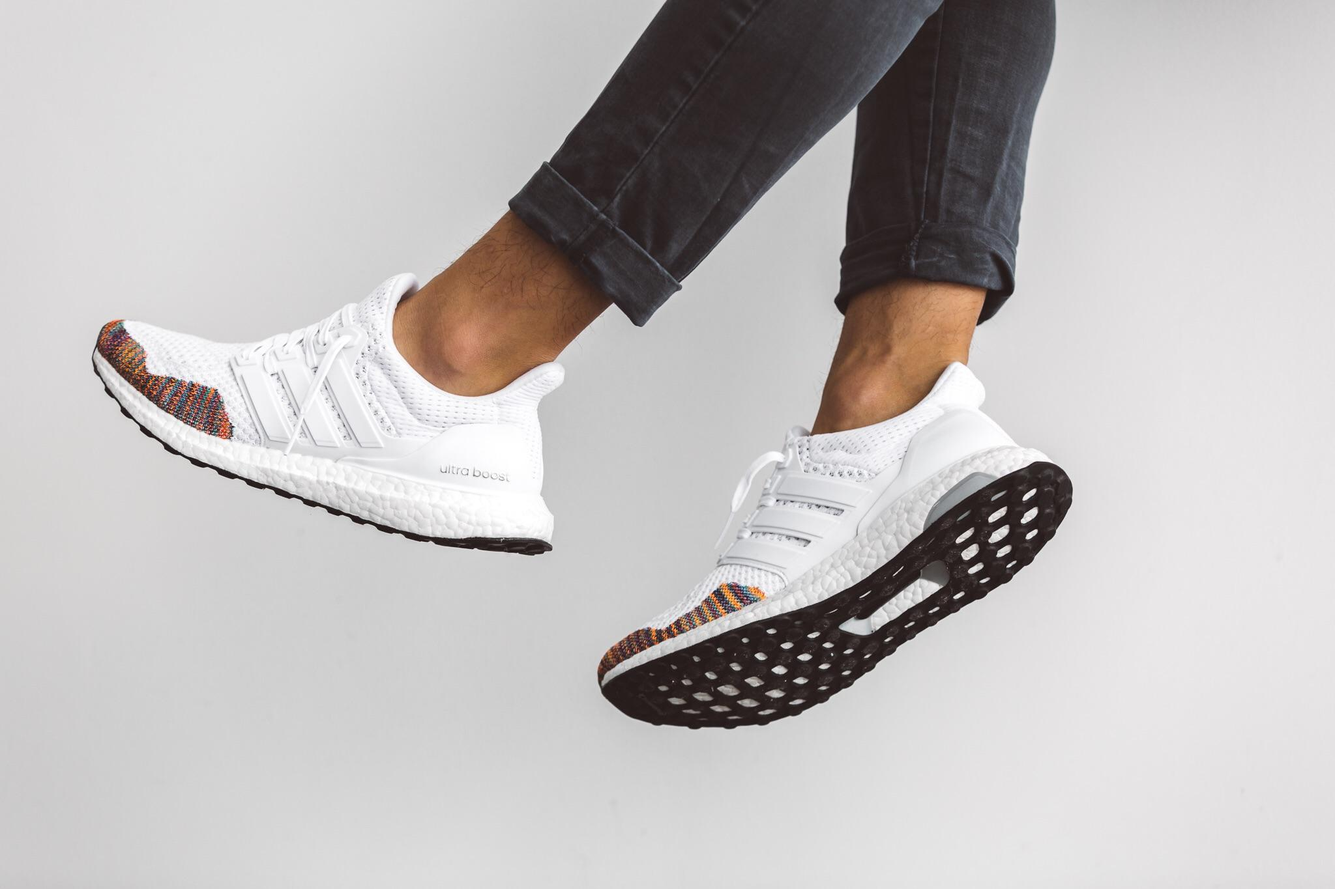sneaker: (607, 399, 1079, 766), (95, 261, 630, 571)
